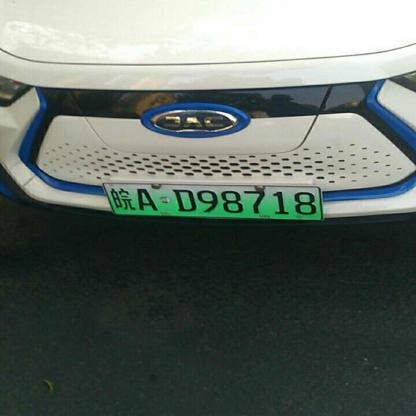lp: (102, 184, 322, 219)
